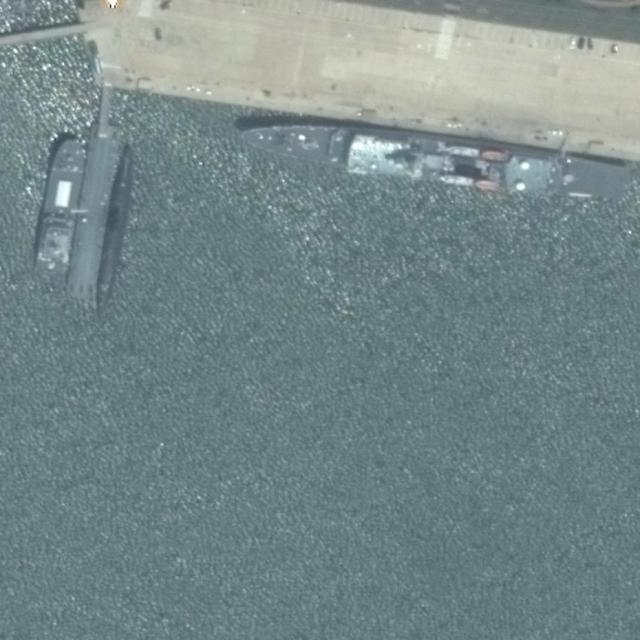Other Warship: (236, 114, 632, 209), (32, 136, 89, 281)
Submarine: (89, 149, 138, 317)
